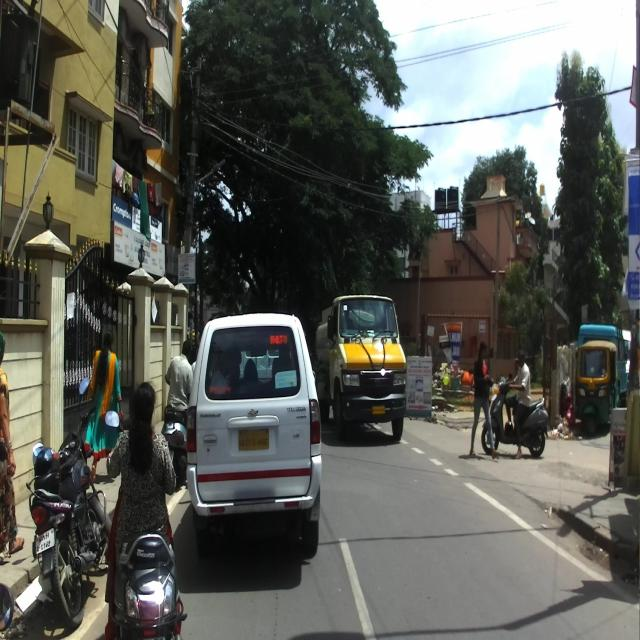autorickshaw: (573, 337, 618, 431)
car: (186, 312, 322, 560)
motorcycle: (26, 375, 111, 631)
scooter: (104, 408, 188, 639), (482, 375, 550, 458)
truck: (326, 294, 405, 448)
